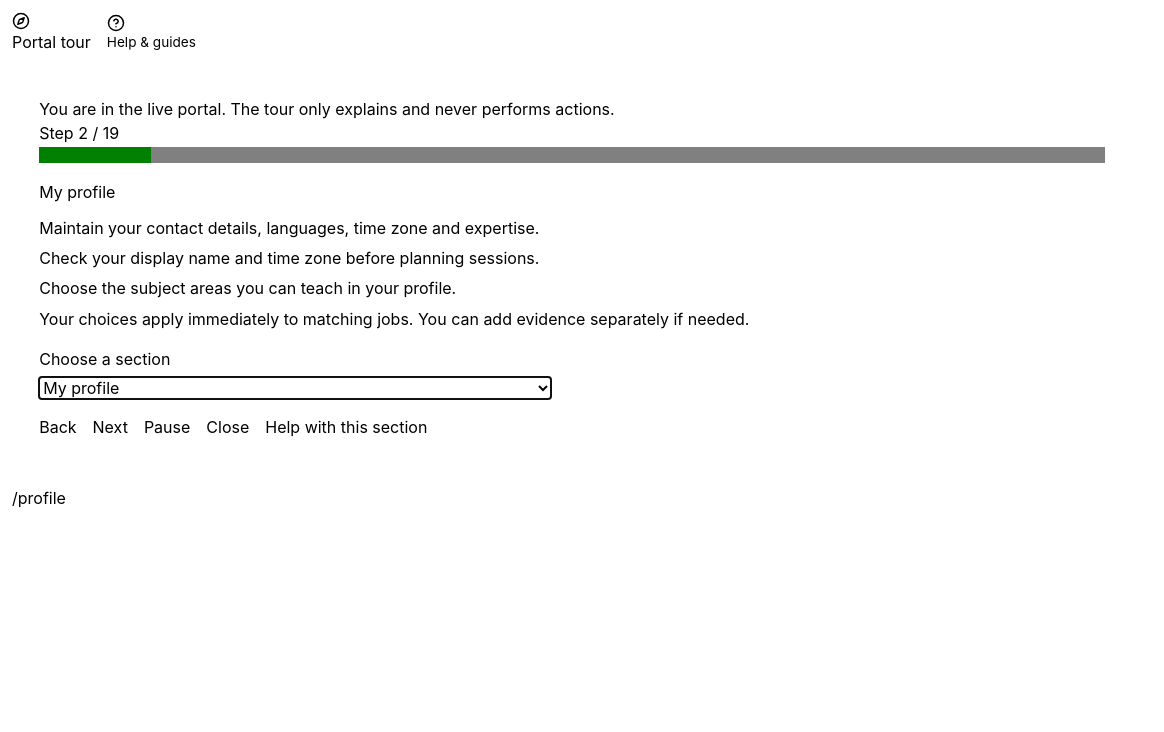
it: live portal guidance › keeps the current step on a language switch, supports keyboard pause and full finish/restart
Earlier steps of the test are not shown.
Later steps or results of the test are not shown.
Press Escape
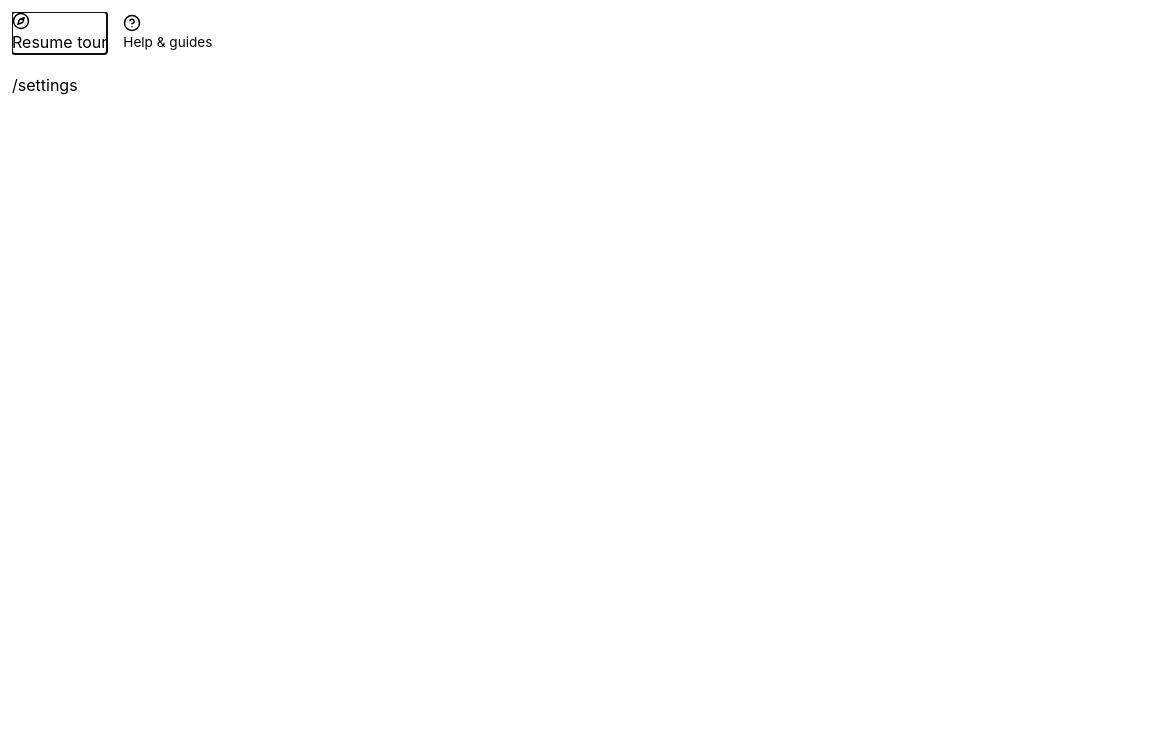
Expected: the text named "route" reads "/settings", [12,75,78,95]
Click the button "Resume tour".
click(60, 33)  # box [12,12,107,54]
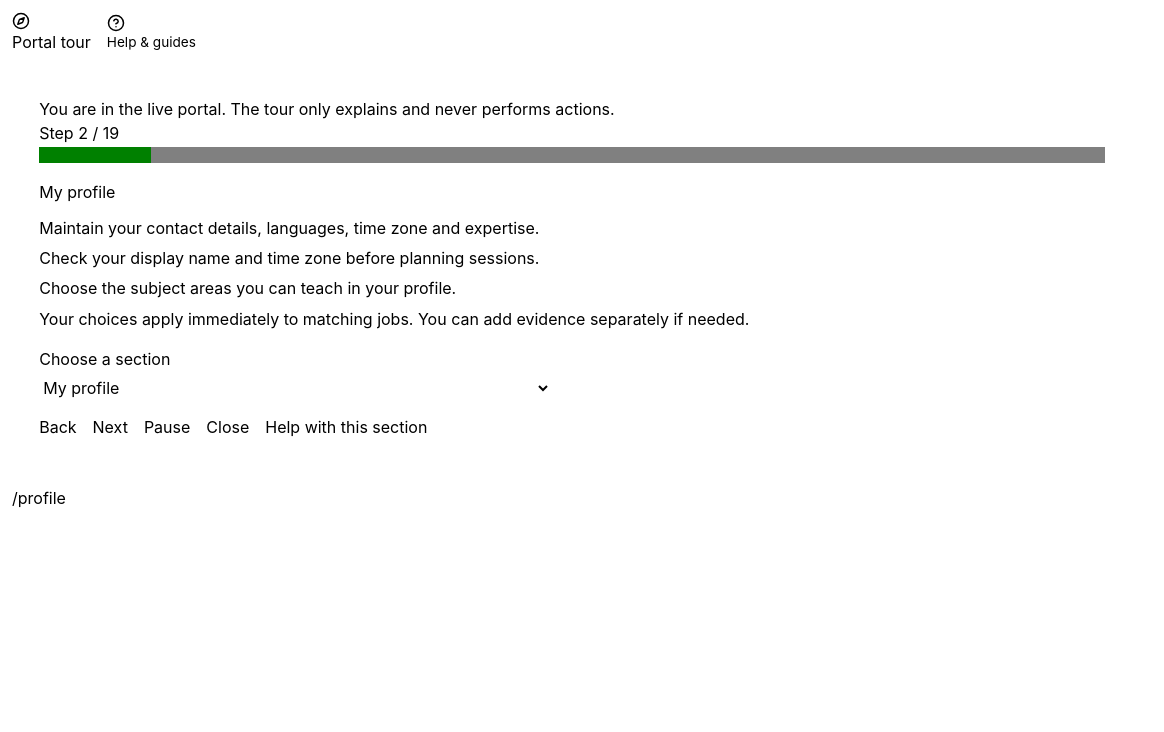
Select "Settings" in the dropdown labelled "Choose a section" at {"x": 295, "y": 388}, box [39,377,551,399]
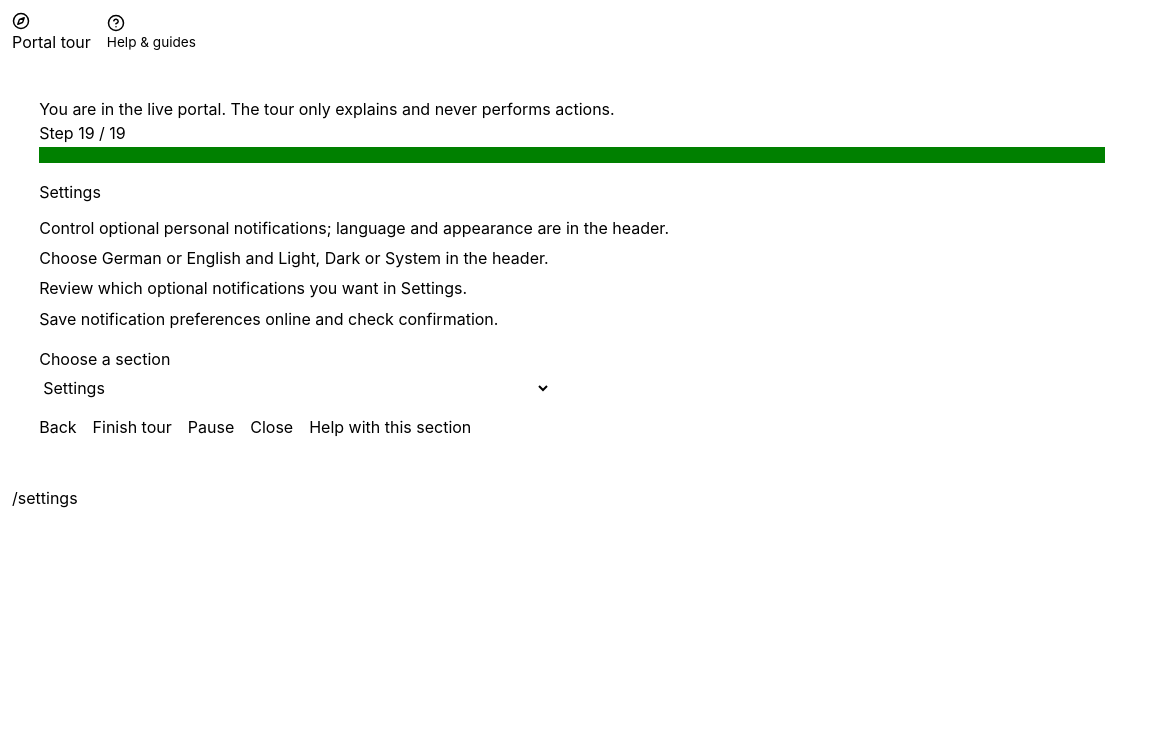
Click the button "Finish tour".
click(132, 427)  # box [93,415,172,439]
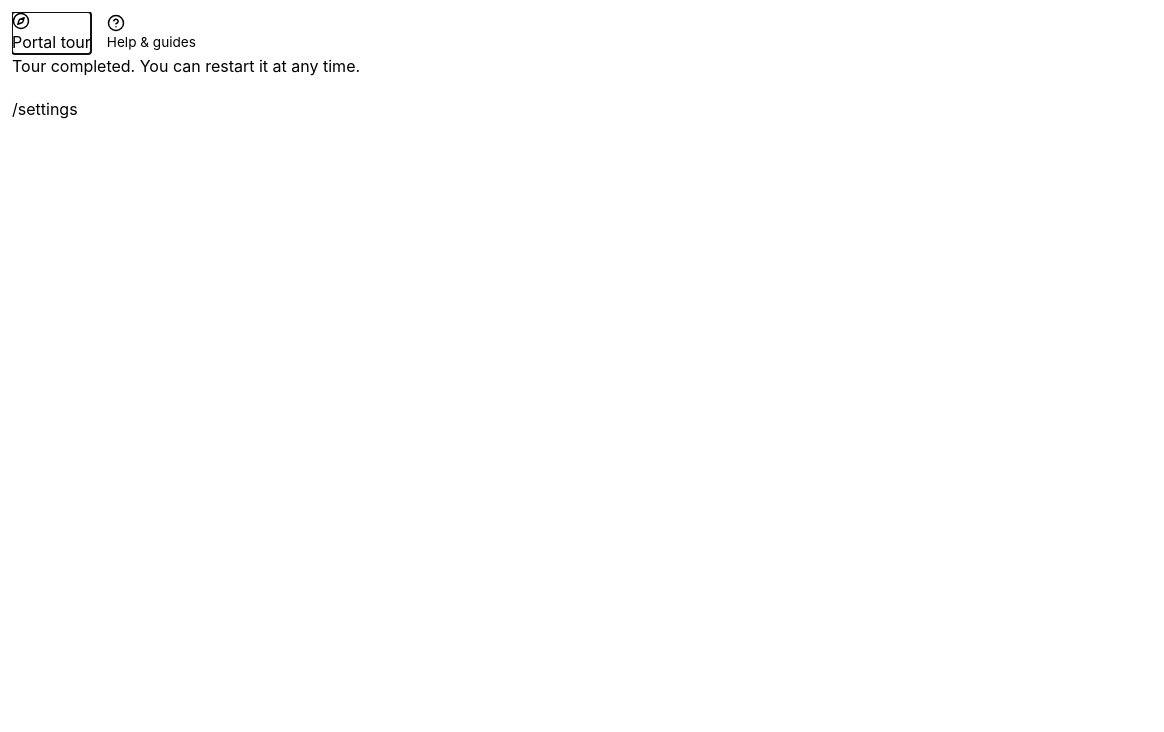
Expected: the text named "route" reads "/settings", [12,99,78,119]
Expected: the message shows "Tour completed", [12,56,360,76]
